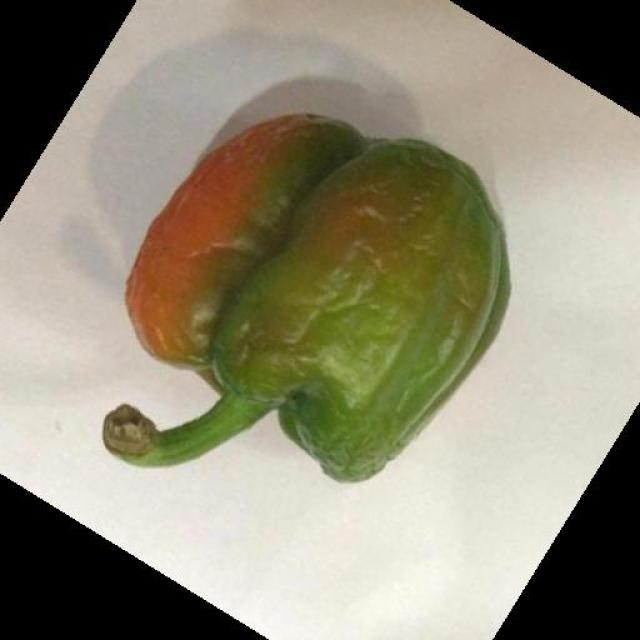Stale_Capsicum: (132, 99, 482, 483)
